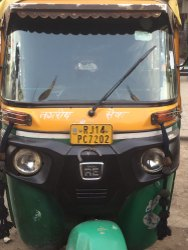doublelinenumberplate: (70, 123, 114, 146)
